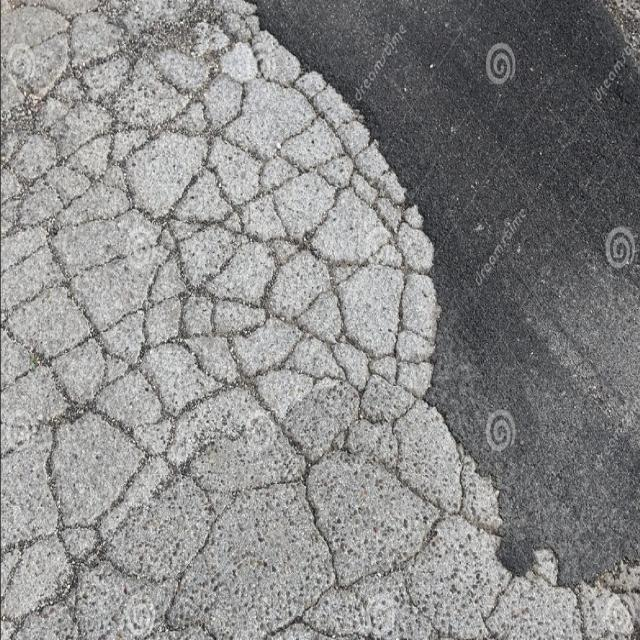Drain Hole: (62, 48, 460, 640)
